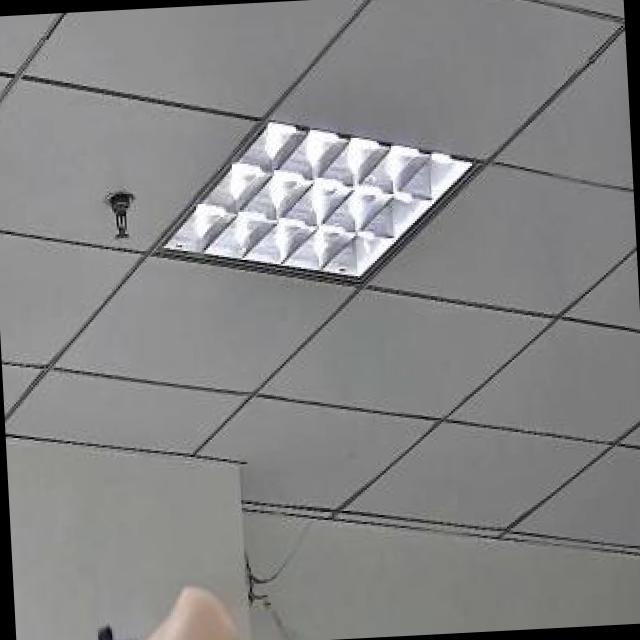Guns: (38, 579, 205, 640)
